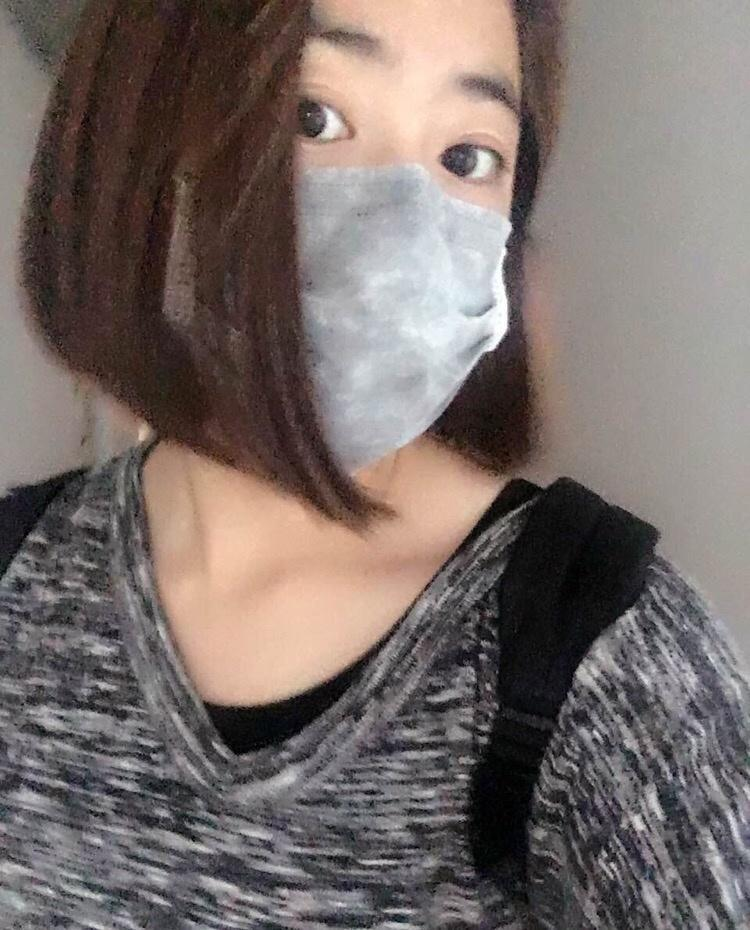OK: (106, 21, 546, 461)
